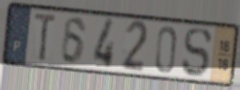0: (154, 24, 178, 74)
2: (120, 19, 150, 74)
4: (91, 17, 116, 72)
6: (59, 15, 89, 65)
S: (180, 27, 213, 79)
T: (33, 11, 59, 63)
